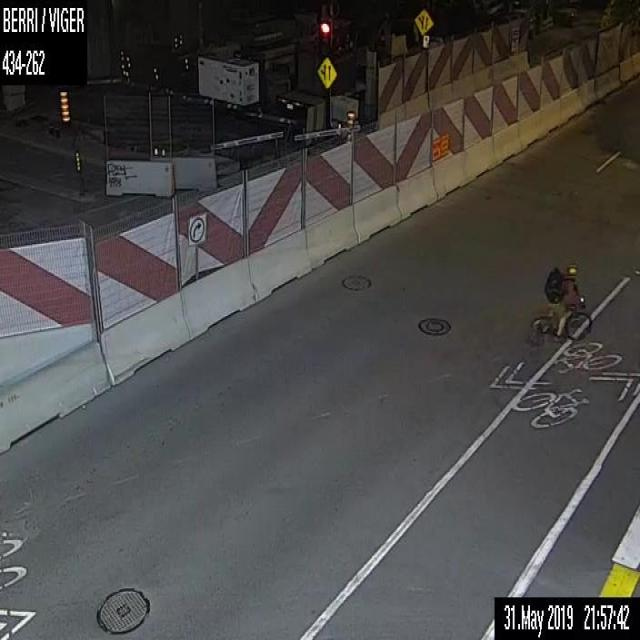construction: (0, 0, 639, 460), (58, 88, 70, 122), (345, 108, 355, 140)
cyclist: (528, 263, 592, 341)
